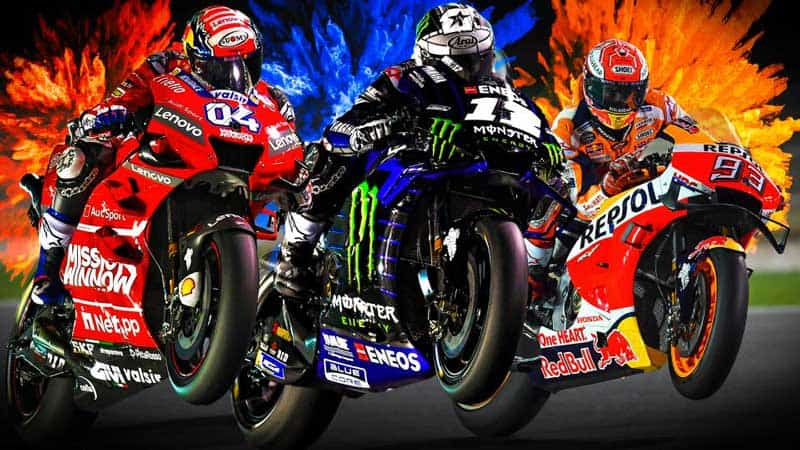helmet: (575, 26, 652, 133), (174, 3, 265, 59), (406, 0, 494, 54)
